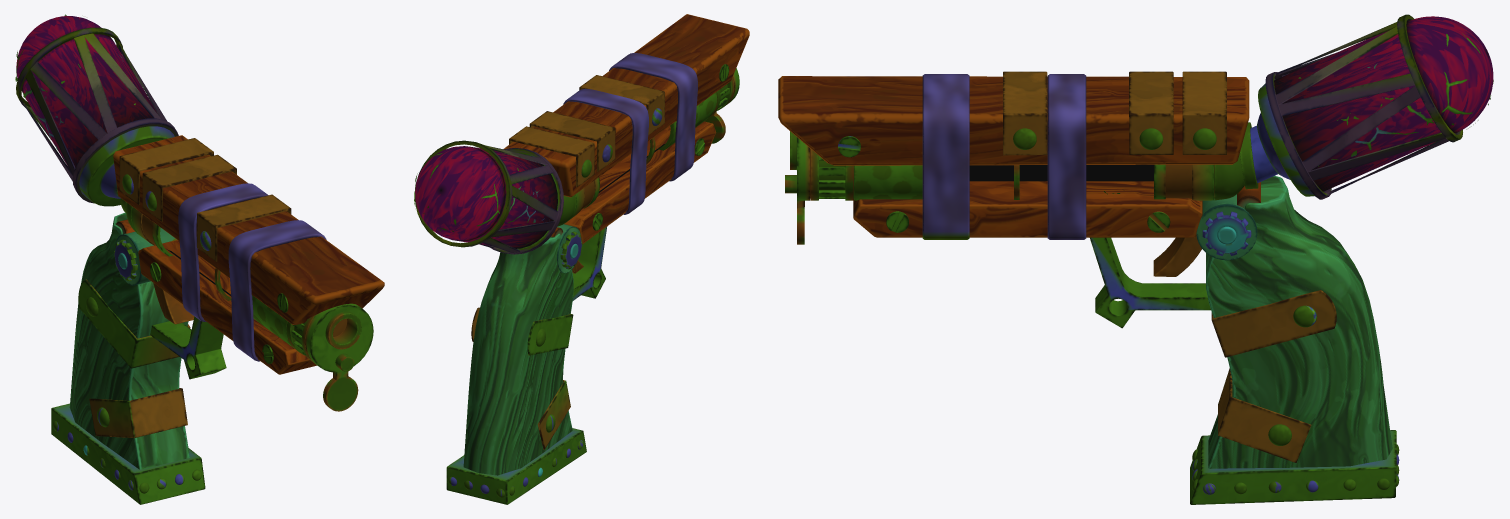
The model's file is jungleblaster.gltf.
The picture shows the model from 3 angles, left to right: view 1: azimuth 30°, elevation 25°; view 2: azimuth 150°, elevation 25°; view 3: azimuth 270°, elevation 25°; orthographic projection. The views are drawn at different scales.
Visible parts, largest first — view 1: jungleblaster, liquid; view 2: jungleblaster, liquid; view 3: jungleblaster, liquid.
Part boxes in pixels (x1,y1,x2,y2): jungleblaster: [15, 14, 384, 504]; liquid: [16, 16, 231, 296]; jungleblaster: [414, 14, 749, 504]; liquid: [415, 144, 664, 248]; jungleblaster: [778, 14, 1493, 504]; liquid: [969, 16, 1493, 191].
Bounding box in the file's own units: 6.34 × 23.98 × 33.4.
2 materials, 2 textured.
